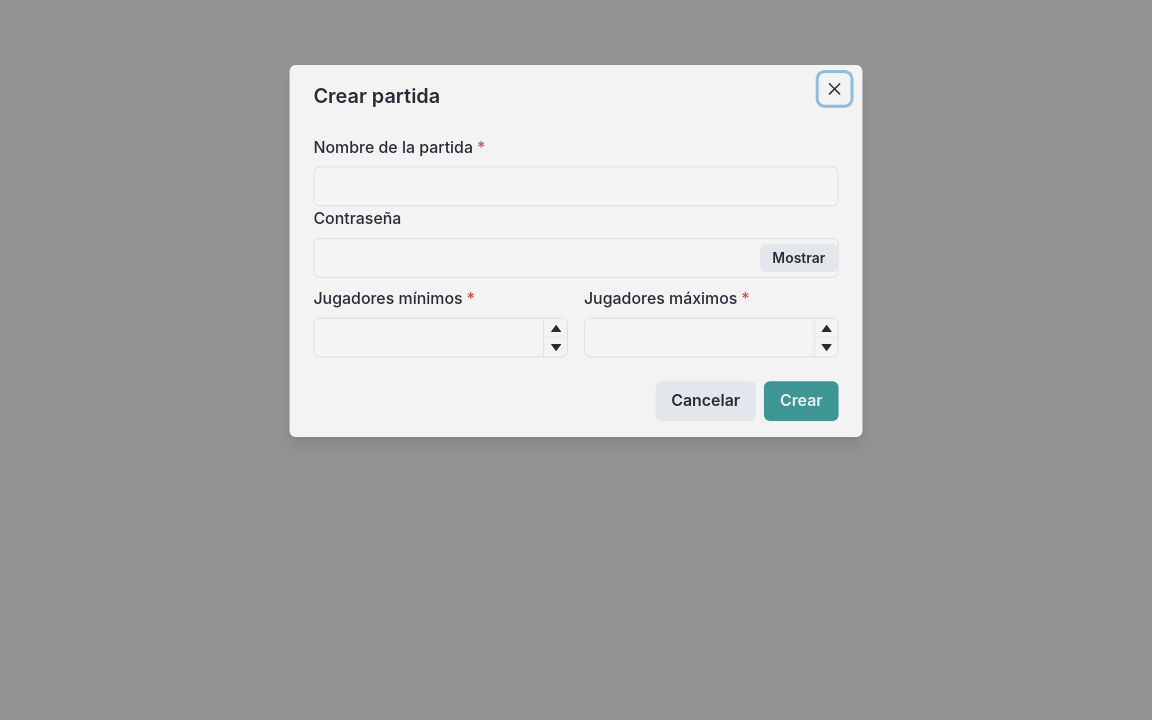
Scenario: RoomCreationForm › No se puede crear una sala con un nombre con caracteres no ASCII y se muestra un mensaje de error
Type "😀" into the field labelled "Nombre de la partida" at (576, 186), box [313,166,838,206]
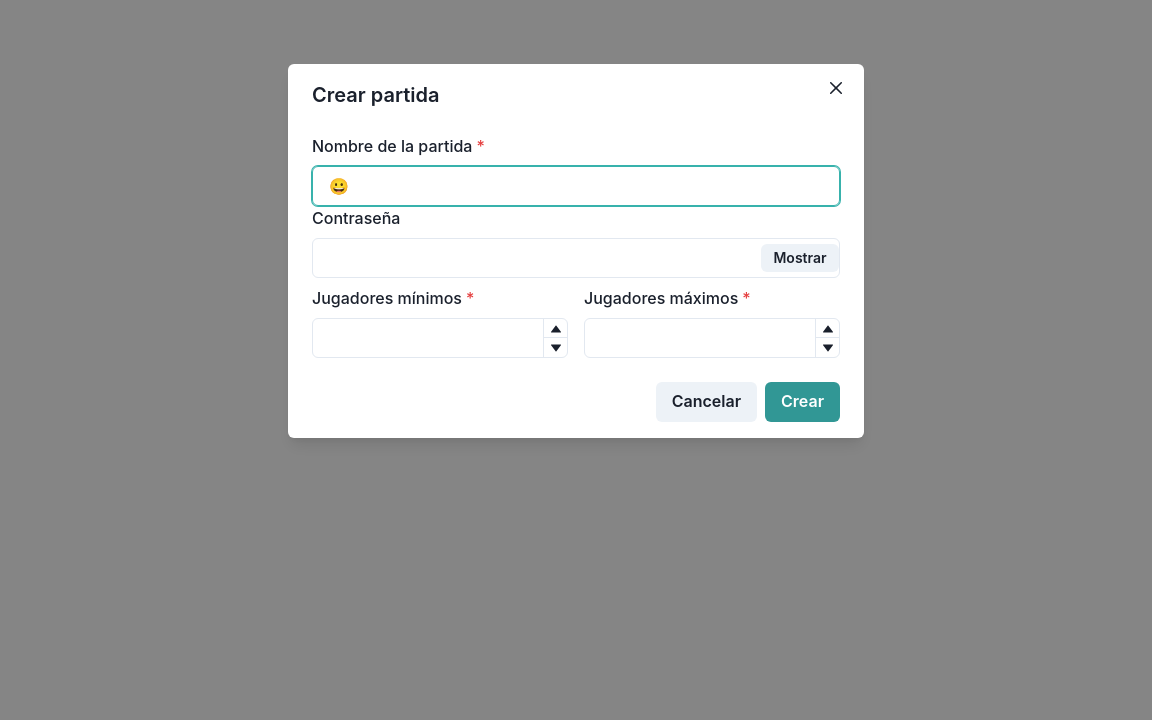
Type "2" into the number field labelled "Jugadores mínimos" at (440, 338), box [312,318,568,358]
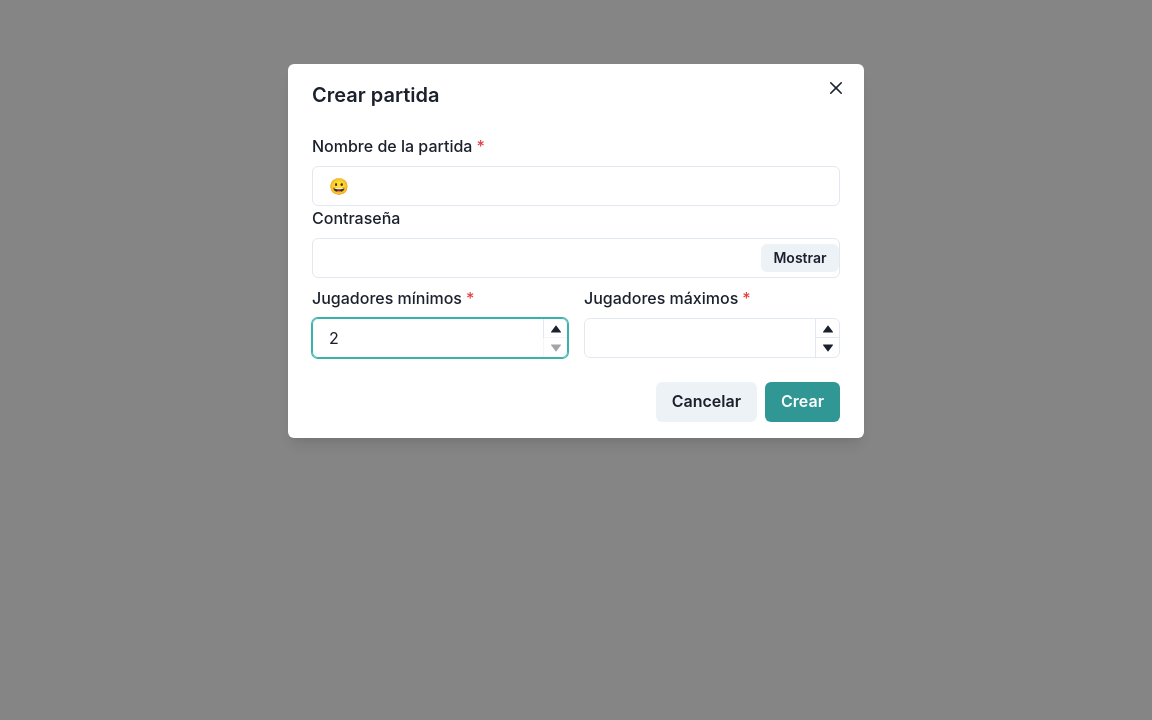
Type "4" into the number field labelled "Jugadores máximos" at (712, 338), box [584,318,840,358]
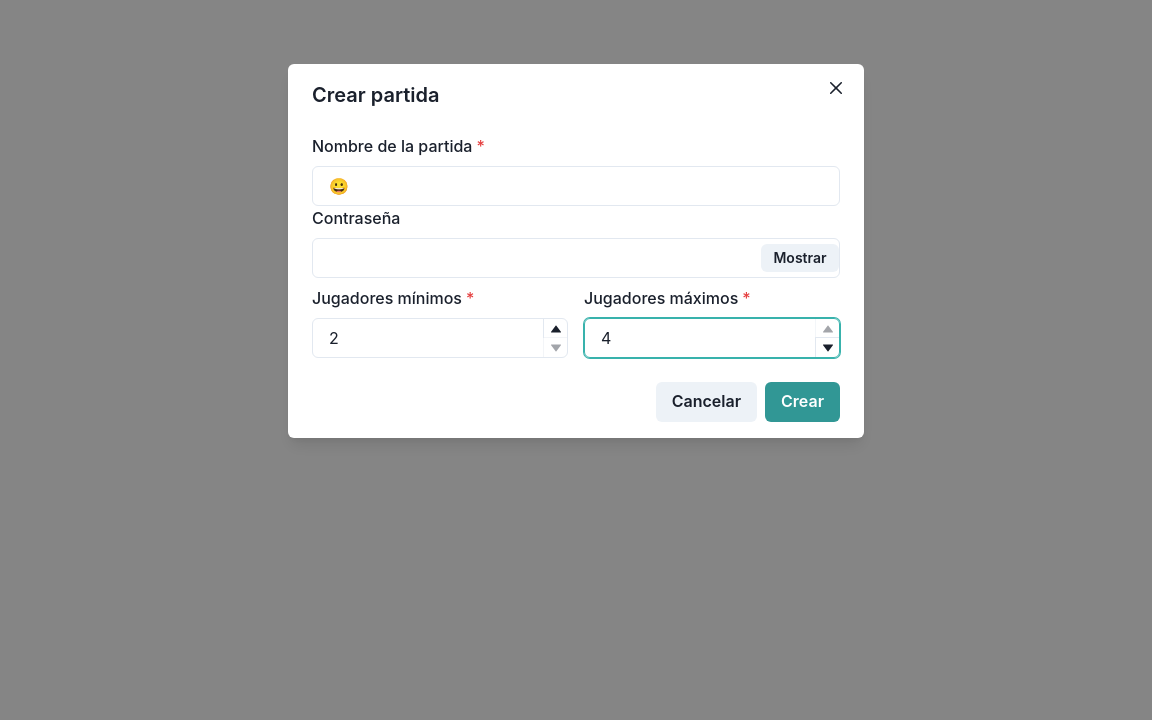
Click the button "Crear" at (802, 402), box [765,382,840,422]
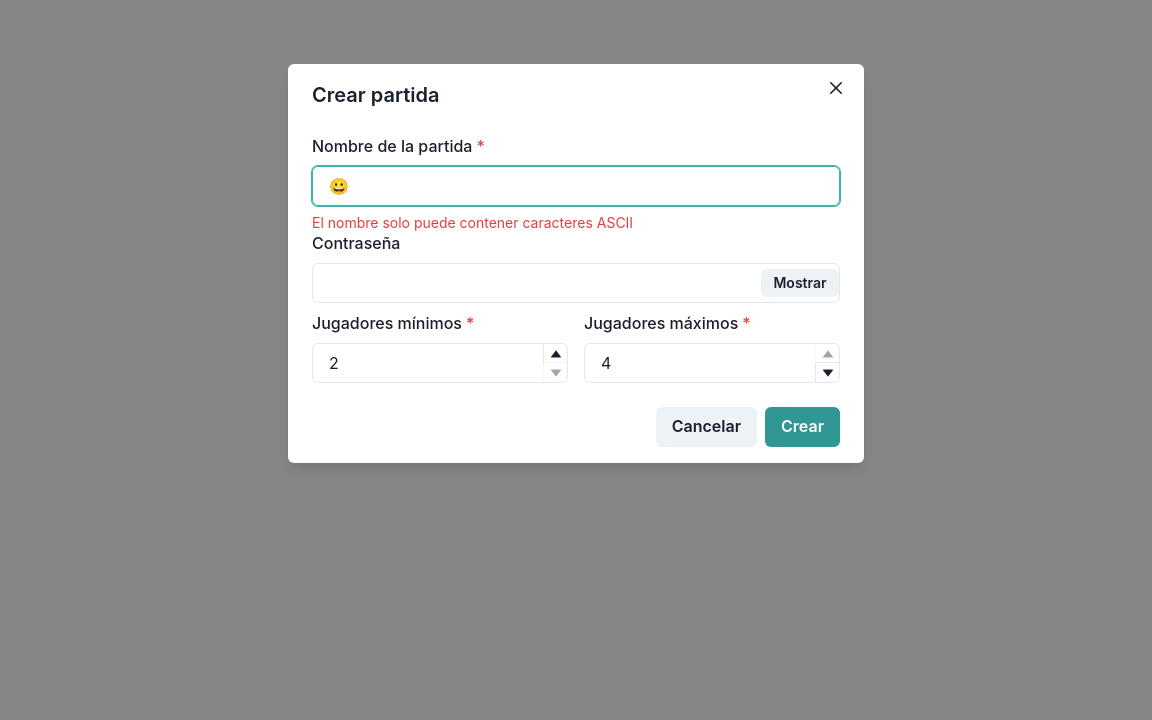
Check: the text "El nombre solo puede contener caracteres ASCII" is shown, box [312,214,633,231]
